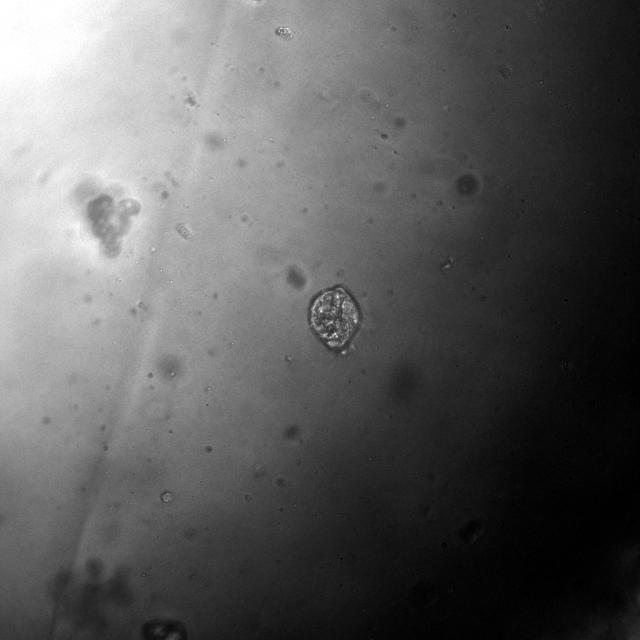organoid: (72, 180, 141, 257), (308, 284, 362, 353)
